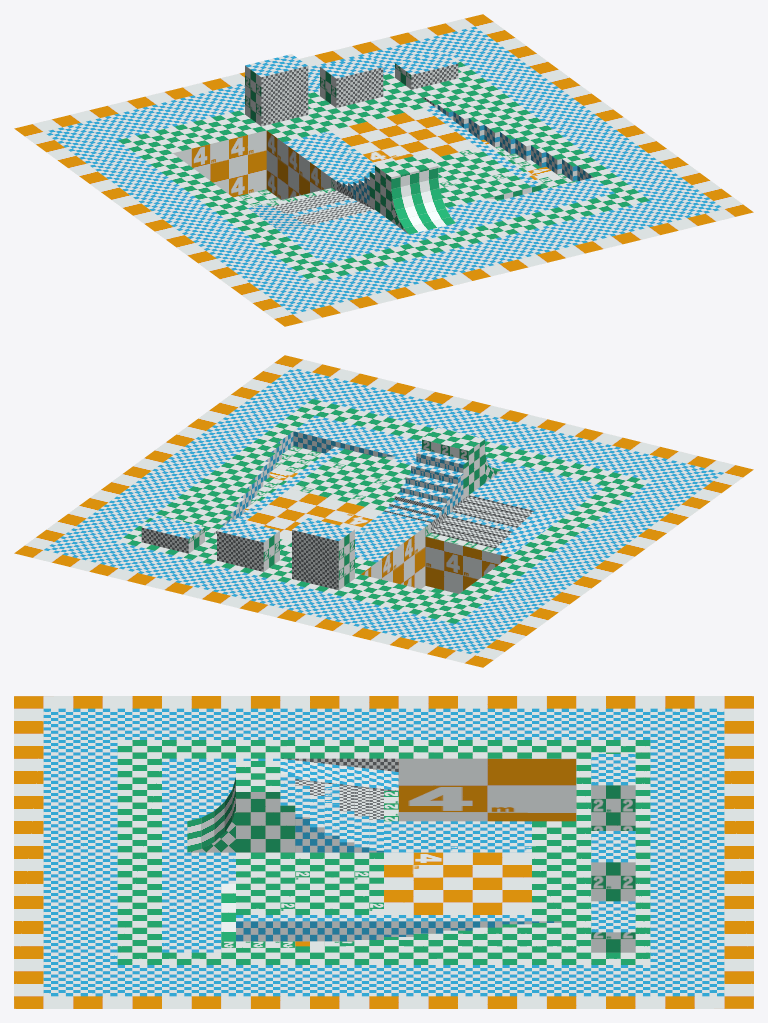
The model's file is TestLevel.obj.
3 renders of one model, top to bottom at view 1: azimuth 30°, elevation 25°; view 2: azimuth 150°, elevation 25°; view 3: azimuth 270°, elevation 25°, orthographic. The views are drawn at different scales.
Visible parts, largest first — view 1: n4b4, n5b5, n6b6, n2b2, n3b3, n1b1; view 2: n4b4, n5b5, n6b6, n3b3, n2b2, n1b1, n0b0; view 3: n4b4, n5b5, n6b6, n2b2, n1b1, n3b3, n0b0.
Boxes of the visible parts, box(x1,y1,x2,y2) form: n4b4: box(44, 26, 723, 314); n5b5: box(118, 58, 649, 282); n6b6: box(14, 14, 753, 326); n2b2: box(173, 130, 556, 199); n3b3: box(261, 63, 458, 225); n1b1: box(233, 63, 578, 207); n4b4: box(44, 367, 723, 655); n5b5: box(118, 399, 649, 623); n6b6: box(14, 355, 753, 667); n3b3: box(141, 495, 534, 590); n2b2: box(245, 468, 508, 593); n1b1: box(188, 439, 495, 597); n0b0: box(357, 453, 516, 533); n4b4: box(43, 708, 724, 996); n5b5: box(117, 740, 650, 964); n6b6: box(14, 696, 753, 1008); n2b2: box(295, 758, 576, 946); n1b1: box(221, 785, 635, 952); n3b3: box(282, 758, 398, 819); n0b0: box(324, 784, 531, 852).
Bounding box in the file's own units: 100 × 22 × 100.
7 materials, 7 textured.
